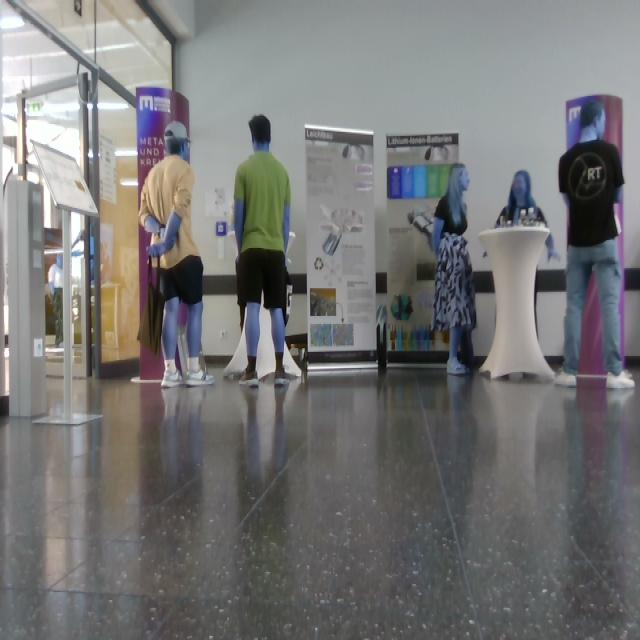door: (93, 77, 140, 377)
person: (559, 100, 635, 390), (140, 122, 214, 388), (381, 134, 459, 366), (235, 116, 291, 386), (433, 164, 476, 376), (496, 170, 549, 228), (546, 234, 559, 260)
tiled floor: (1, 372, 640, 640)
